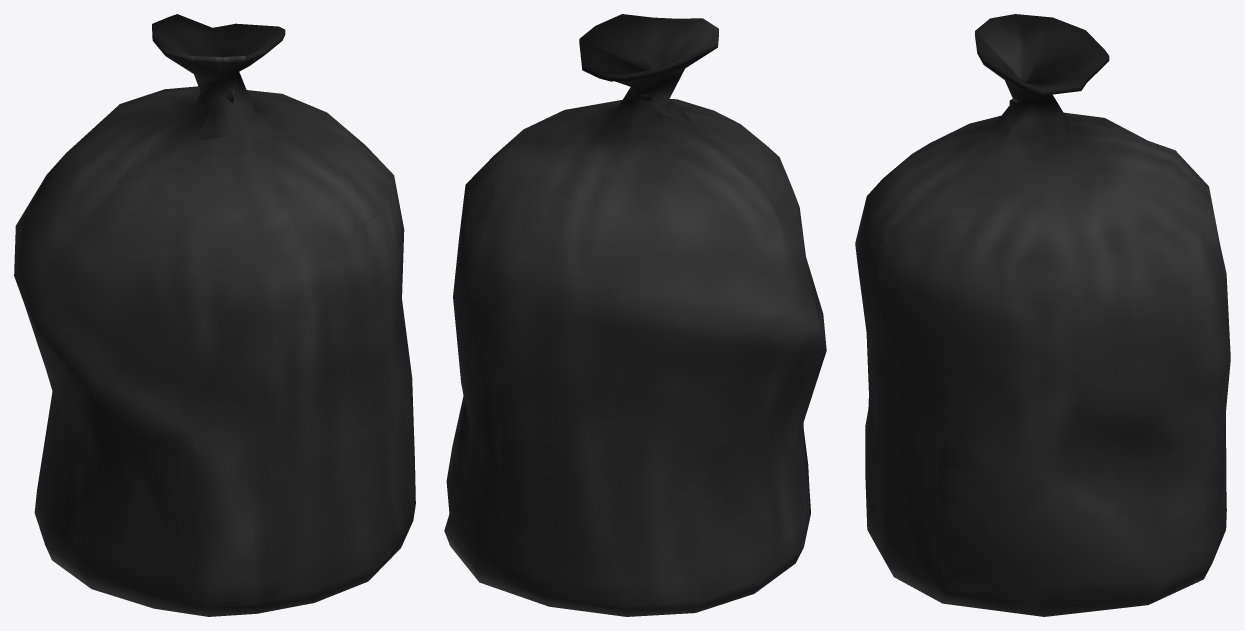
File: Garbage_Bag_01.fbx
3 renders of one model, left to right at view 1: azimuth 30°, elevation 25°; view 2: azimuth 150°, elevation 25°; view 3: azimuth 270°, elevation 25°, orthographic. The views are drawn at different scales.
Parts seen in each view (by area): view 1: Bag_01_low; view 2: Bag_01_low; view 3: Bag_01_low.
Boxes of the visible parts, bbox=[...] form: Bag_01_low: bbox=[14, 14, 415, 616]; Bag_01_low: bbox=[444, 14, 826, 616]; Bag_01_low: bbox=[855, 14, 1230, 616].
Bounding box in the file's own units: 47.89 × 69.08 × 46.06.
1 material, 1 textured.
